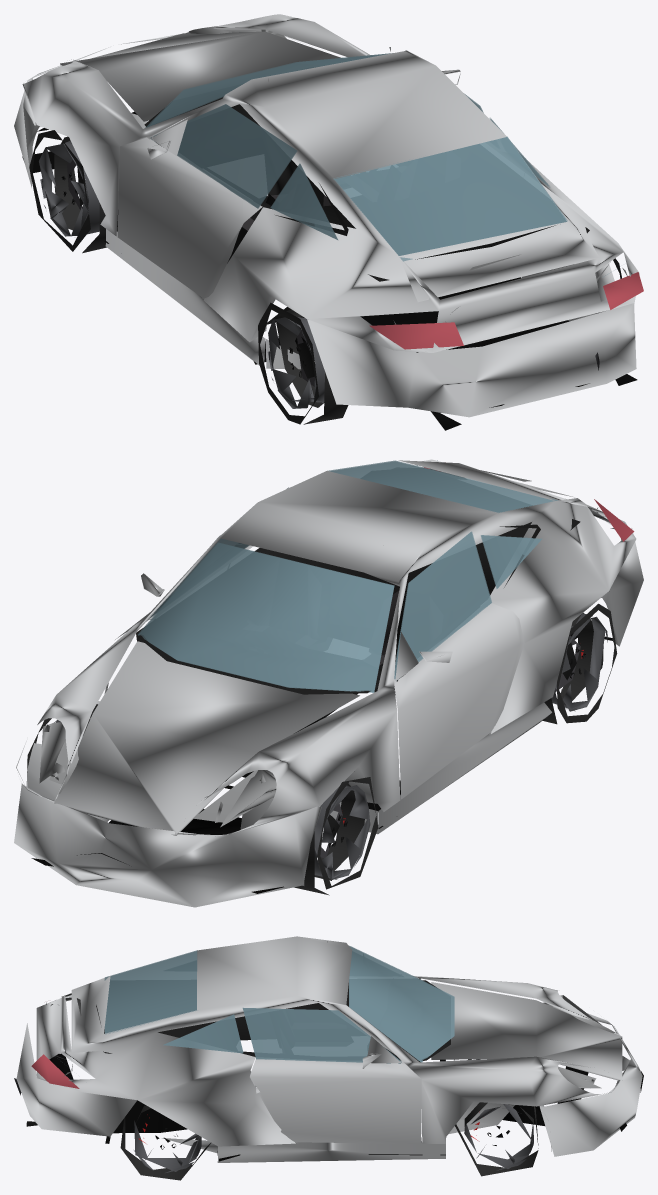
File: porsche-mid.glb
3 views of the same model, one above another, from view 1: azimuth 30°, elevation 25°; view 2: azimuth 150°, elevation 25°; view 3: azimuth 270°, elevation 25° (orthographic). The views are drawn at different scales.
Parts seen in each view (by area): view 1: body, glass; view 2: body, glass; view 3: body, glass.
Boxes of the visible parts, x1,y1,x2,y2 form: body: (14, 14, 643, 430); glass: (144, 53, 620, 277); body: (14, 459, 643, 907); glass: (137, 460, 558, 692); body: (14, 936, 643, 1180); glass: (50, 945, 454, 1066).
Size of the model in its own units: 1.85 by 1.35 by 4.52.
